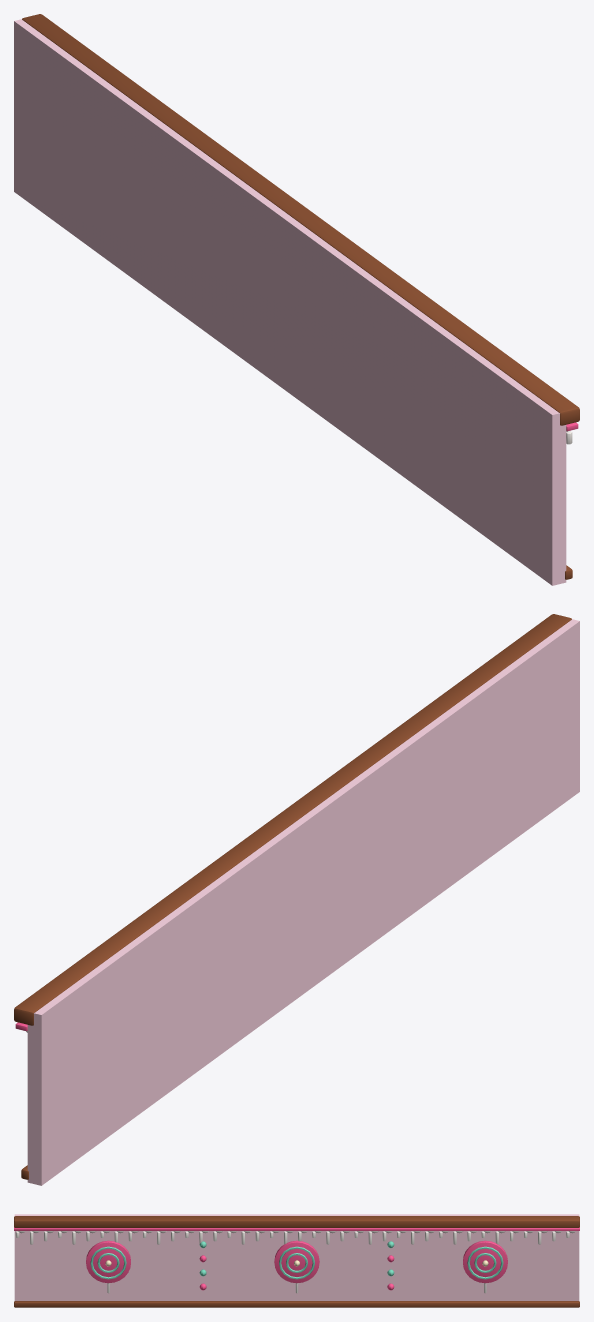
The model's file is WallCandy.fbx.
3 renders of one model, top to bottom at view 1: azimuth 30°, elevation 25°; view 2: azimuth 150°, elevation 25°; view 3: azimuth 270°, elevation 25°, orthographic. The views are drawn at different scales.
Parts seen in each view (by area): view 1: WallCandy; view 2: WallCandy; view 3: WallCandy.
Boxes of the visible parts, x1,y1,x2,y2 form: WallCandy: (14,14,579,585); WallCandy: (14,614,579,1185); WallCandy: (14,1214,579,1307).
Size of the model in its own units: 295 by 1410 by 8020.
